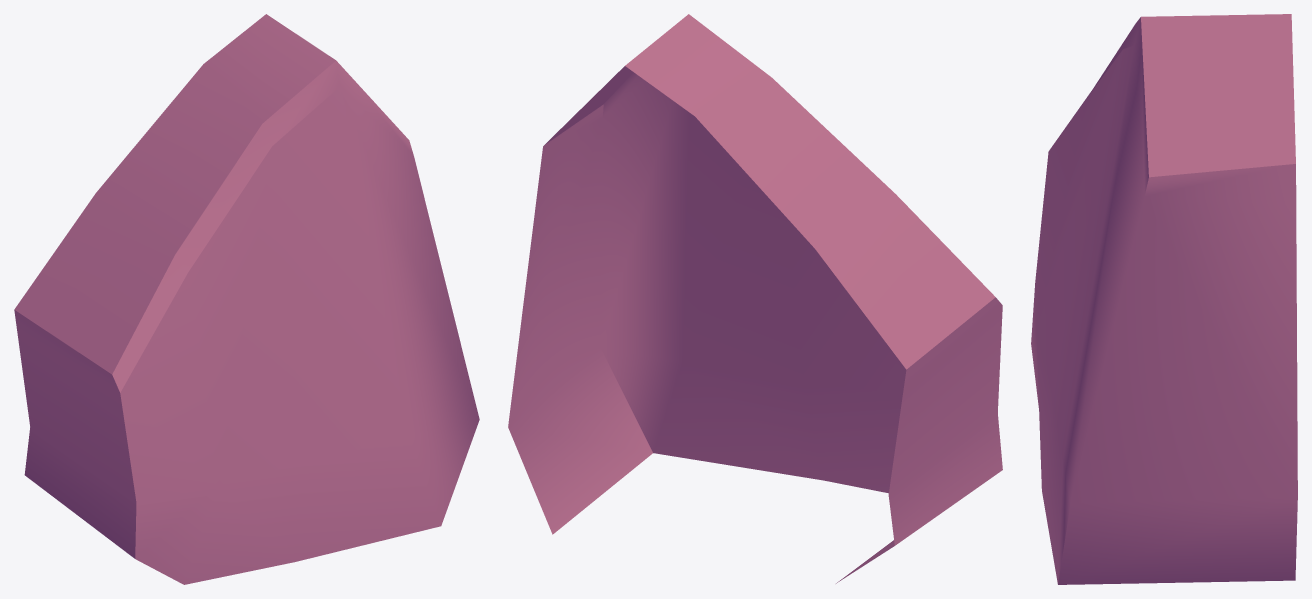
Rendered from Module_Rock_Mesh_00_v01.fbx.
The picture shows the model from 3 angles, left to right: view 1: azimuth 30°, elevation 25°; view 2: azimuth 150°, elevation 25°; view 3: azimuth 270°, elevation 25°; orthographic projection. The views are drawn at different scales.
Parts seen in each view (by area): view 1: Module_Rock_Mesh_00_v01; view 2: Module_Rock_Mesh_00_v01; view 3: Module_Rock_Mesh_00_v01.
Part boxes in pixels (left/top/right/bottom): Module_Rock_Mesh_00_v01: left=14, top=14, right=479, bottom=584; Module_Rock_Mesh_00_v01: left=508, top=14, right=1002, bottom=583; Module_Rock_Mesh_00_v01: left=1031, top=14, right=1297, bottom=584.
Bounding box in the file's own units: 77.88 × 90.21 × 41.24.
